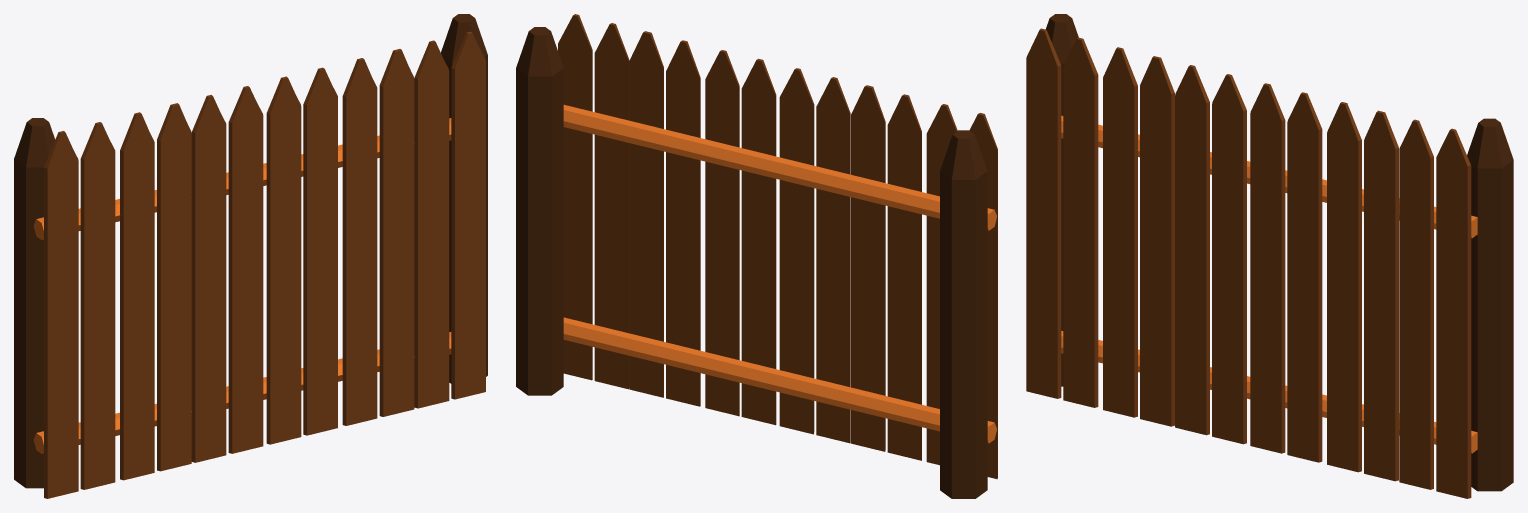
The model's file is Zabor dlin stolbi.fbx.
3 views of the same model, side by side, from view 1: azimuth 30°, elevation 25°; view 2: azimuth 150°, elevation 25°; view 3: azimuth 330°, elevation 25° (orthographic).
Parts seen in each view (by area): view 1: Cube.001, Cube.005, Cylinder, Cylinder.001, Cylinder.003, Cylinder.002; view 2: Cube.001, Cube.005, Cylinder.001, Cylinder, Cylinder.002, Cylinder.003; view 3: Cube.001, Cube.005, Cylinder.001, Cylinder, Cylinder.003, Cylinder.002.
Part boxes in pixels (x1,y1,x2,y2): Cube.001: (266, 31, 485, 444); Cube.005: (44, 86, 263, 498); Cylinder: (14, 118, 55, 488); Cylinder.001: (441, 14, 487, 383); Cylinder.003: (33, 332, 451, 453); Cylinder.002: (33, 118, 451, 239); Cube.001: (558, 14, 776, 425); Cube.005: (779, 68, 997, 479); Cylinder.001: (516, 27, 563, 395); Cylinder: (940, 130, 987, 498); Cylinder.002: (563, 105, 996, 230); Cylinder.003: (563, 317, 996, 443); Cube.001: (1250, 83, 1471, 498); Cube.005: (1026, 28, 1246, 444); Cylinder.001: (1467, 118, 1513, 491); Cylinder: (1045, 14, 1078, 386); Cylinder.003: (1061, 331, 1477, 453); Cylinder.002: (1061, 115, 1477, 238).
Size of the model in its own units: 1220 by 915 by 155.
